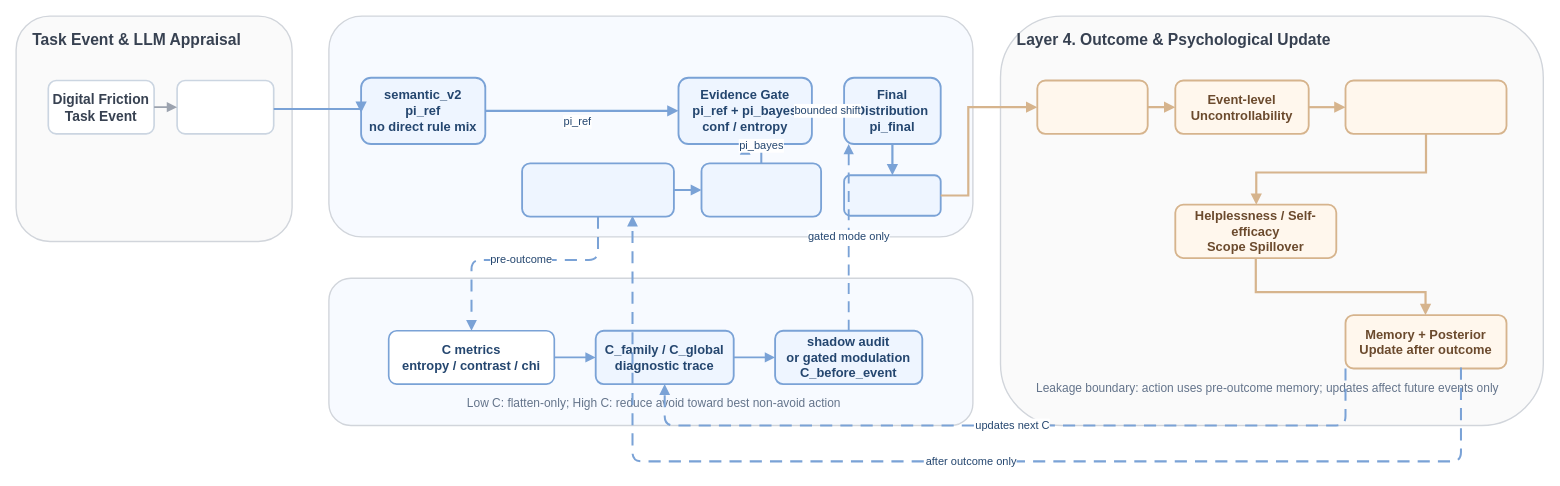
This 1560x486 diagram has some shape labels left out. The shapes that lost their labels are listed below. From the top down, each one's centre as x and y in pixels, then its label:
(x=225, y=106): LLM Appraisal difficulty / risk / control
(x=1092, y=106): Digital Task Outcome
(x=1425, y=106): Attribution / Avoid Reason Support Context
(x=597, y=189): Posterior Memory P(o | family, action)
(x=761, y=189): Bayesian Value Q_bayes -> pi_bayes
(x=892, y=195): Sampled Action attempt / help / avoid
